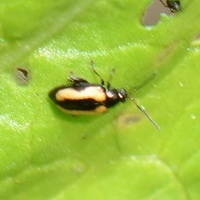insect: (49, 60, 159, 129)
